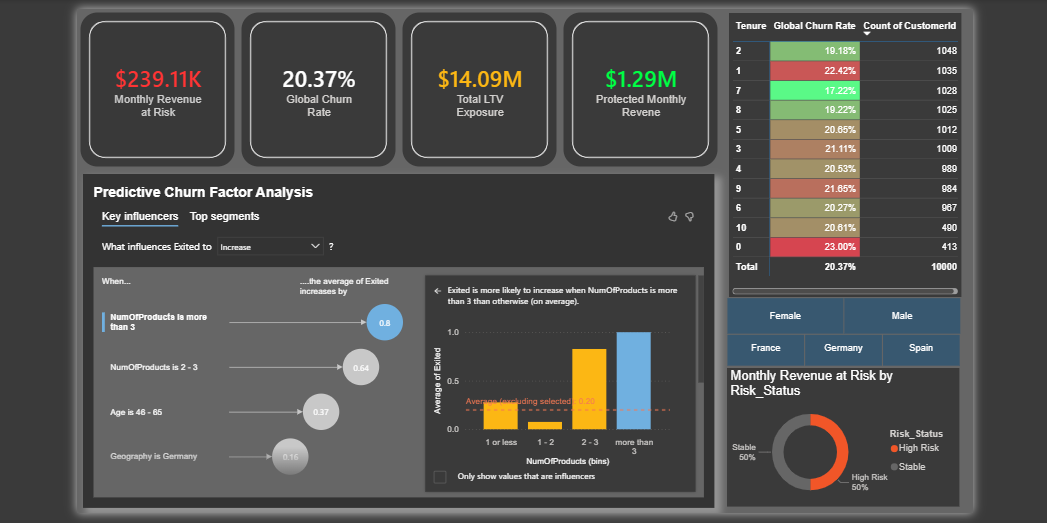

The page's visual inventory and layout, read from the dashboard file:
{"tool":"powerbi","page":{"name":"Page 1","canvas":[1280,720],"ordinal":0},"visuals":[{"type":"cardVisual","fields":{"Data":["Churn_Modelling.Potential_LTV_loss"]},"box":[460,0,230,230],"z":0},{"type":"cardVisual","fields":{"Data":["Churn_Modelling.Total_Revenue_at_Risk"]},"box":[0,0,230,230],"z":1000},{"type":"cardVisual","fields":{"Data":["Churn_Modelling.Churn_Rate_Pct"]},"box":[230,0,230,230],"z":2000},{"type":"pivotTable","fields":{"Rows":["Churn_Modelling.Tenure"],"Values":["Churn_Modelling.Global Churn Rate","CountNonNull(Churn_Modelling.CustomerId)"]},"box":[930.8,5,332.1,407],"z":3000},{"type":"slicer","fields":{"Values":["Churn_Modelling.Geography"]},"box":[908.8,457.6,371,54.4],"z":4000},{"type":"slicer","fields":{"Values":["Churn_Modelling.Gender"]},"box":[908.8,412,371.8,54.4],"z":5000},{"type":"donutChart","fields":{"Category":["Churn_Modelling.Risk_Status"],"Y":["Churn_Modelling.Monthly Revenue at Risk"]},"box":[928.3,513.3,331.7,198.3],"z":6000},{"type":"cardVisual","fields":{"Data":["Churn_Modelling.High Value Stable Revenue"]},"box":[690,0,230,230],"z":7000},{"type":"keyDriversVisual","title":"Predictive Churn Factor Analysis","fields":{"ExplainBy":["Churn_Modelling.Geography","Churn_Modelling.Gender","Churn_Modelling.NumOfProducts","Churn_Modelling.IsActiveMember","Churn_Modelling.Age"],"Target":["Churn_Modelling.Exited"]},"box":[8.3,235,901.7,476.7],"z":8000}]}

Visuals, with their boxes in screenshot pixels (x1, y1, x2, y2):
cardVisual - Churn_Modelling.Potential_LTV_loss: 400/11/559/170
cardVisual - Churn_Modelling.Total_Revenue_at_Risk: 82/11/241/170
cardVisual - Churn_Modelling.Churn_Rate_Pct: 241/11/400/170
pivotTable - Churn_Modelling.Tenure x Churn_Modelling.Global Churn Rate: 726/14/955/296
slicer - Churn_Modelling.Geography: 710/327/967/365
slicer - Churn_Modelling.Gender: 710/296/967/333
donutChart - Churn_Modelling.Risk_Status x Churn_Modelling.Monthly Revenue at Risk: 724/366/953/503
cardVisual - Churn_Modelling.High Value Stable Revenue: 559/11/718/170
"Predictive Churn Factor Analysis" keyDriversVisual: 88/173/711/503
